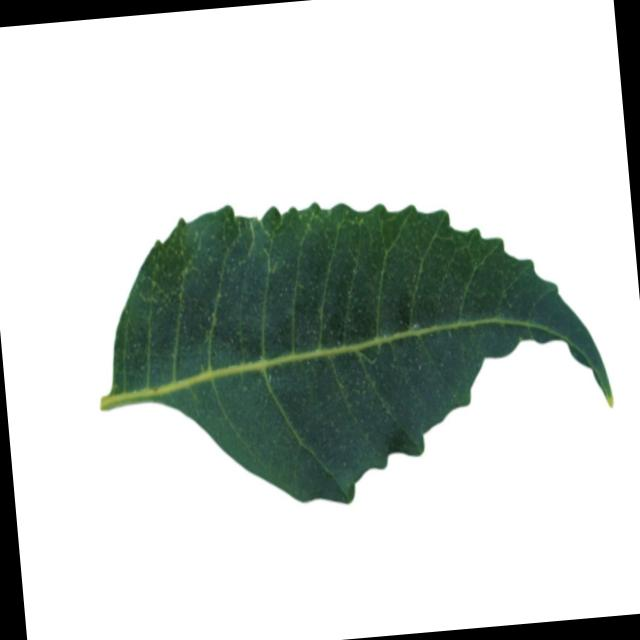Medicinal-Neem: (81, 169, 621, 523)
